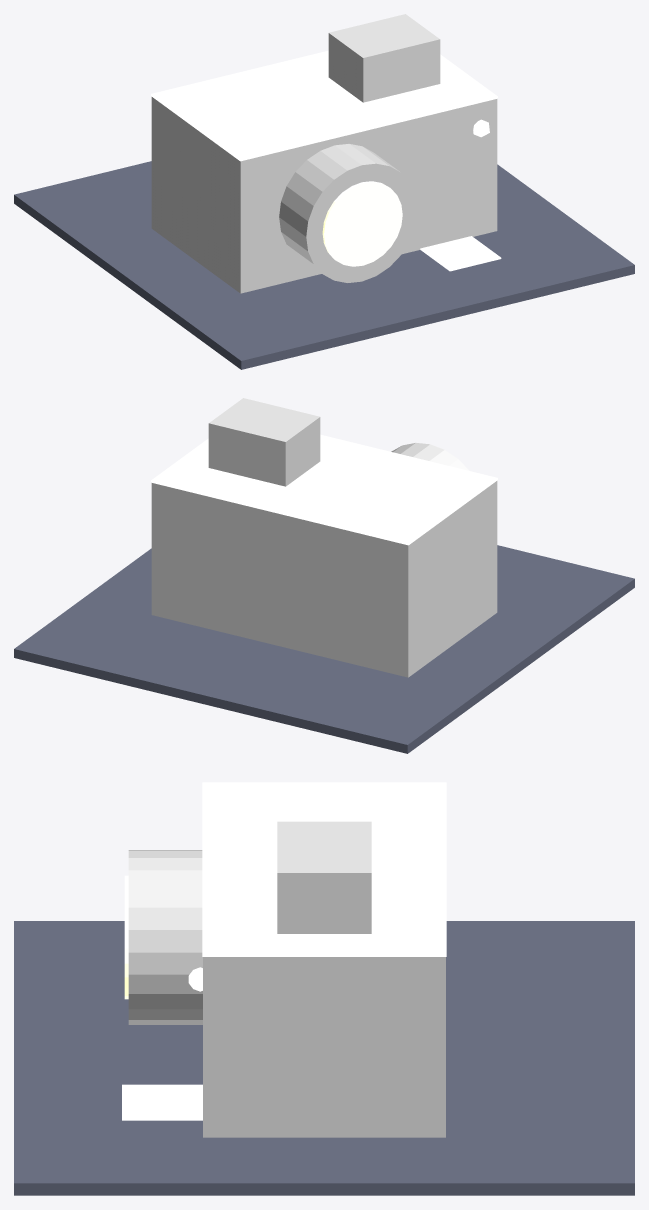
Rendered from venue_creators.glb.
The picture shows the model from 3 angles, top to bottom: view 1: azimuth 30°, elevation 25°; view 2: azimuth 150°, elevation 25°; view 3: azimuth 270°, elevation 25°; orthographic projection. The views are drawn at different scales.
Visible parts, largest first — view 1: Plinth, Body, Eave, Lens, Viewfinder, LensGlass, Carpet; view 2: Plinth, Body, Eave, Viewfinder, Lens; view 3: Plinth, Body, Eave, Lens, Viewfinder, Carpet, LensGlass.
Part boxes in pixels (bbox=[...]): Plinth: bbox=[14, 161, 634, 369]; Body: bbox=[151, 97, 497, 293]; Eave: bbox=[151, 50, 497, 161]; Lens: bbox=[279, 144, 417, 282]; Viewfinder: bbox=[328, 14, 440, 102]; LensGlass: bbox=[322, 181, 402, 266]; Carpet: bbox=[420, 236, 501, 271]; Plinth: bbox=[14, 545, 634, 753]; Body: bbox=[151, 481, 497, 677]; Eave: bbox=[151, 434, 497, 545]; Viewfinder: bbox=[208, 398, 320, 486]; Lens: bbox=[391, 443, 469, 470]; Plinth: bbox=[14, 921, 634, 1195]; Body: bbox=[203, 957, 445, 1137]; Eave: bbox=[202, 782, 446, 956]; Lens: bbox=[128, 850, 202, 1024]; Viewfinder: bbox=[277, 821, 371, 933]; Carpet: bbox=[122, 1084, 202, 1120]; LensGlass: bbox=[124, 875, 128, 999].
Size of the model in its own units: 46 by 21 by 46.
